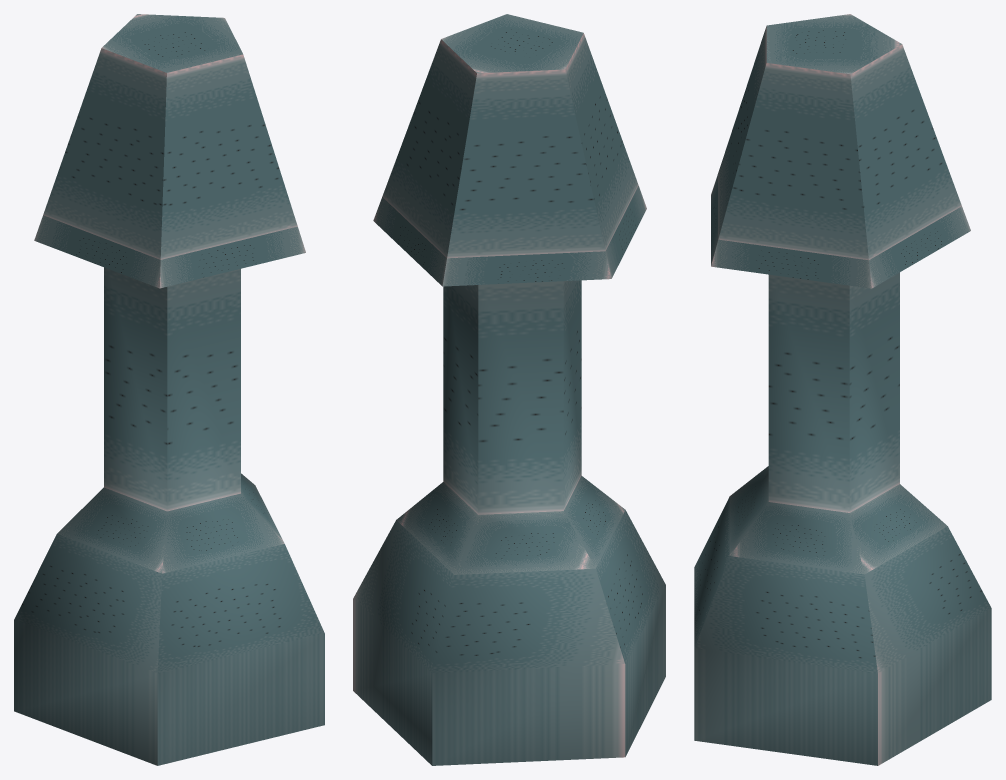
File: yk_katto_lvi_tuuletusaukko1.fbx
3 views of the same model, side by side, from view 1: azimuth 30°, elevation 25°; view 2: azimuth 150°, elevation 25°; view 3: azimuth 270°, elevation 25° (orthographic).
Visible parts, largest first — view 1: lvi-ilmaaukko.002; view 2: lvi-ilmaaukko.002; view 3: lvi-ilmaaukko.002.
Part boxes in pixels (x1,y1,x2,y2): lvi-ilmaaukko.002: [14, 14, 324, 765]; lvi-ilmaaukko.002: [353, 14, 665, 765]; lvi-ilmaaukko.002: [694, 14, 991, 765].
Bounding box in the file's own units: 26.9 × 62.27 × 25.58.
